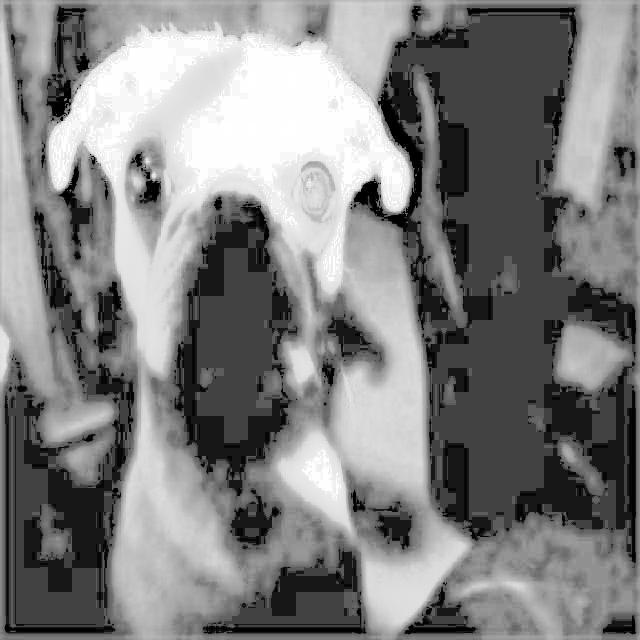Dog: (46, 14, 409, 640)
